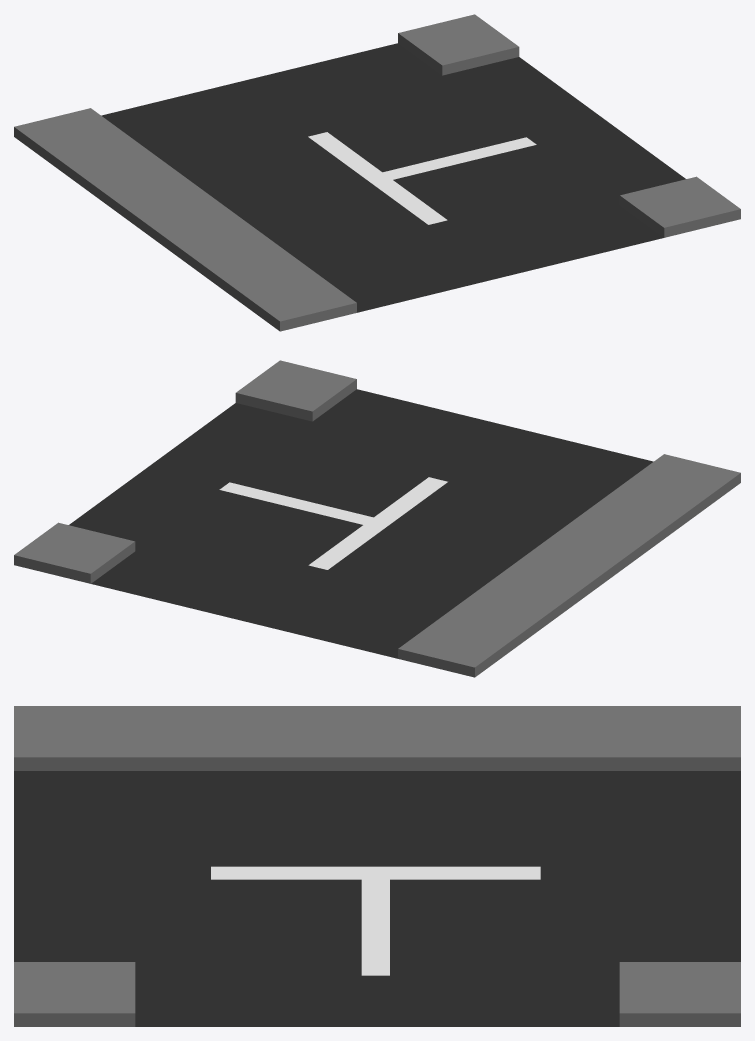
The model's file is RoadTJunc.fbx.
3 views of the same model, one above another, from view 1: azimuth 30°, elevation 25°; view 2: azimuth 150°, elevation 25°; view 3: azimuth 270°, elevation 25° (orthographic). The views are drawn at different scales.
Parts seen in each view (by area): view 1: RoadTJunc, Pavement; view 2: RoadTJunc, Pavement; view 3: RoadTJunc, Pavement.
Boxes of the visible parts, x1,y1,x2,y2 form: RoadTJunc: [101, 43, 685, 312]; Pavement: [14, 14, 740, 331]; RoadTJunc: [69, 389, 653, 658]; Pavement: [14, 360, 740, 677]; RoadTJunc: [14, 771, 740, 1026]; Pavement: [14, 706, 740, 1026].
Bounding box in the file's own units: 24 × 0.5 × 24.
